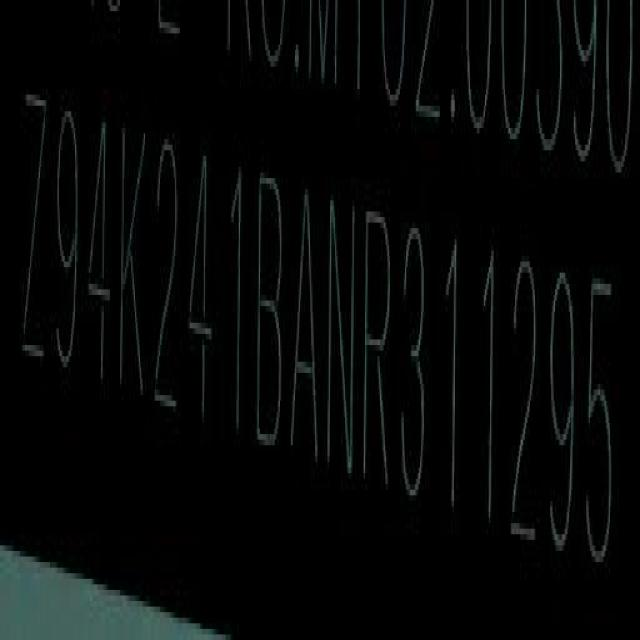0: (222, 153, 252, 441)
1: (478, 240, 499, 524), (442, 231, 459, 511)
2: (509, 253, 541, 550), (152, 134, 179, 423)
3: (401, 226, 431, 504)
4: (88, 113, 115, 388)
5: (588, 270, 618, 576)
9: (549, 271, 580, 562), (187, 140, 217, 423), (50, 98, 80, 378)
A: (288, 192, 323, 466)
B: (255, 165, 288, 450)
K: (119, 122, 147, 403)
N: (325, 198, 358, 476)
R: (363, 201, 394, 487)
Z: (20, 88, 46, 366)
